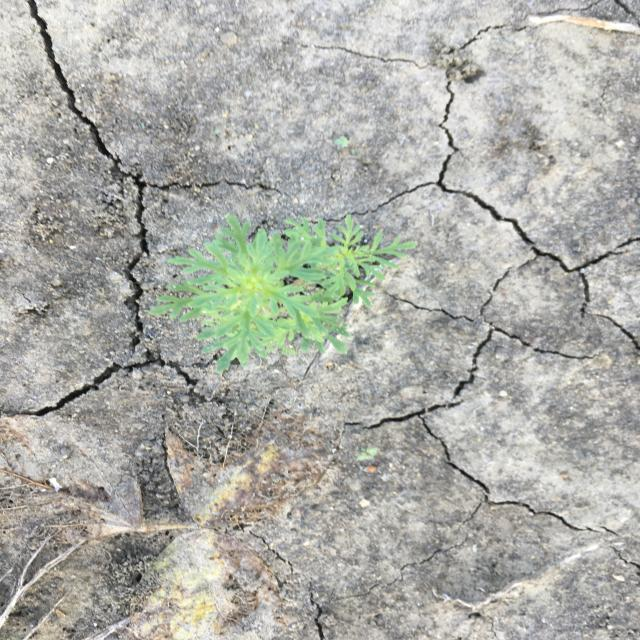Ragweed: (146, 210, 421, 374)
